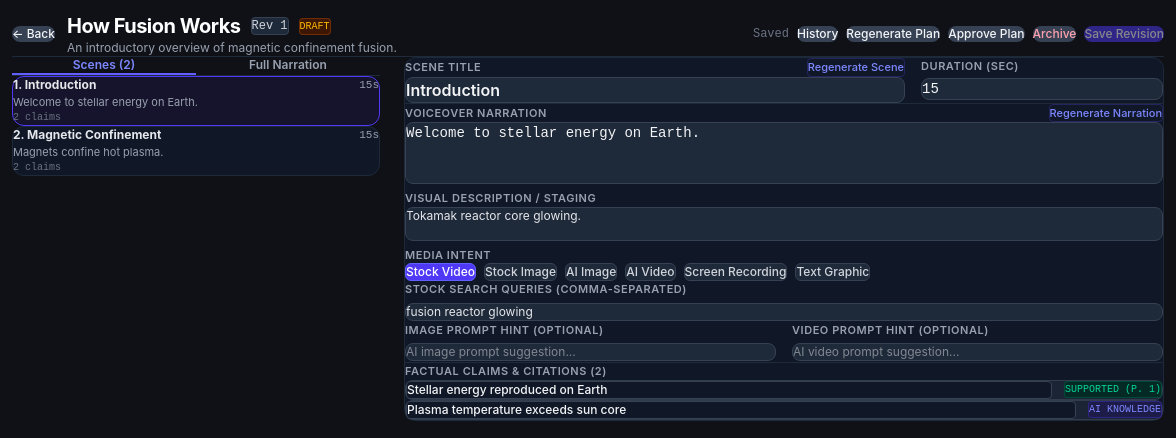
Scenario: ContentPlanEditor Component › renders loaded plan, scene list, and grounding badges for all statuses
The width and height of the screenshot is (1176, 438).
Check: the heading "How Fusion Works" is shown, box [67,12,240,40]
Check: the text "1. Introduction" is shown, box [13,77,96,93]
# Select scene 2 to inspect uncertain & modified
Click the text "2. Magnetic Confinement" at (87, 135), box [13,127,161,143]
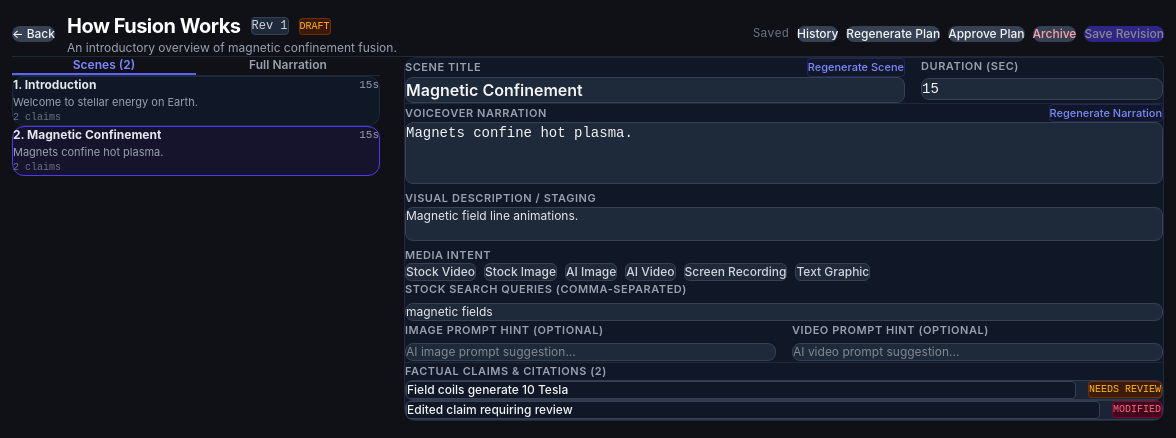
Check: the text "Needs review" is shown, box [1088,381,1162,398]
Check: the text "Modified" is shown, box [1112,401,1162,418]
